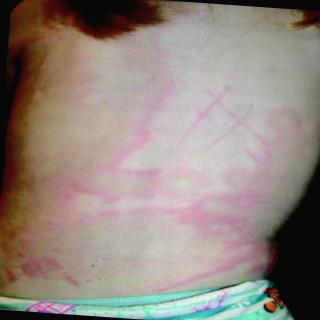urticaria: (11, 248, 96, 289)
